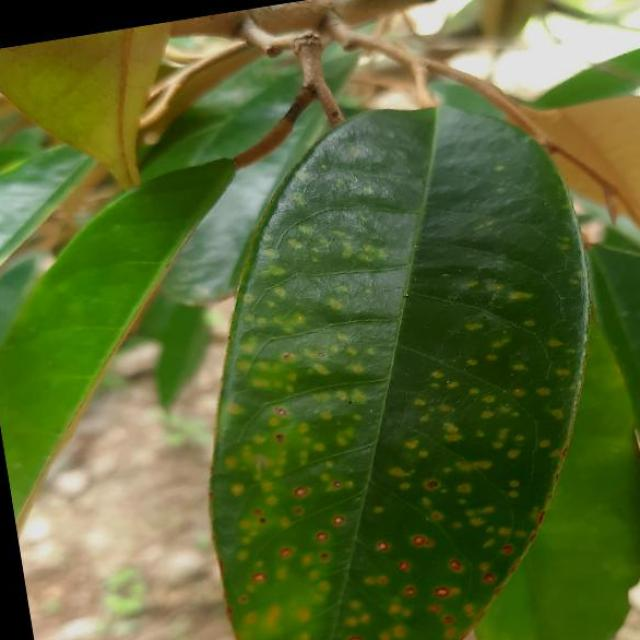Leaf Spot: (132, 48, 640, 640)
